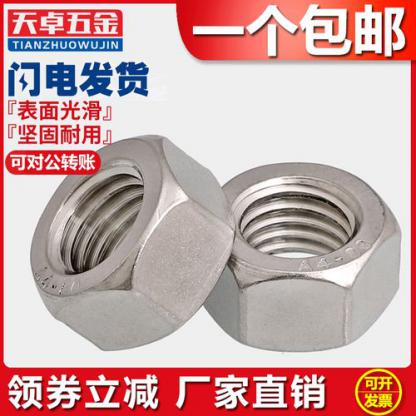FOD: (30, 129, 238, 354), (194, 160, 402, 352)
